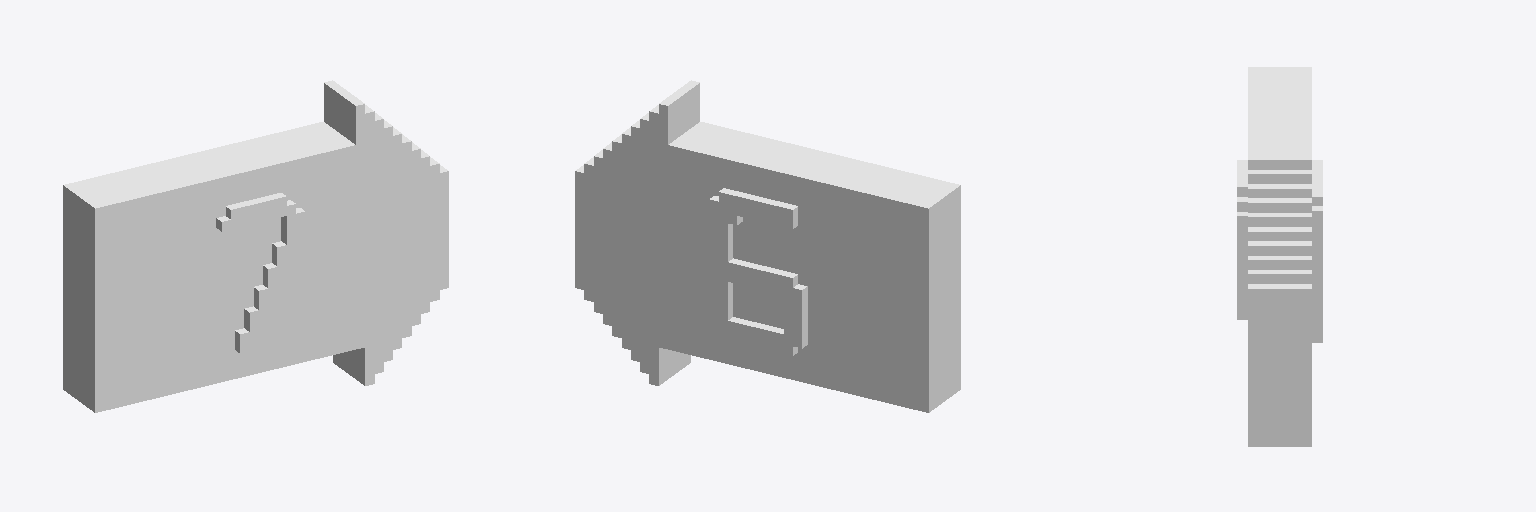
File: altıyedi.obj
3 views of the same model, side by side, from view 1: azimuth 30°, elevation 25°; view 2: azimuth 150°, elevation 25°; view 3: azimuth 270°, elevation 25° (orthographic).
Visible parts, largest first — view 1: object 1; view 2: object 1; view 3: object 1.
Boxes of the visible parts, x1,y1,x2,y2 form: object 1: [63, 80, 448, 412]; object 1: [575, 80, 960, 412]; object 1: [1237, 67, 1322, 446].
Size of the model in its own units: 3.8 by 2.9 by 0.8.